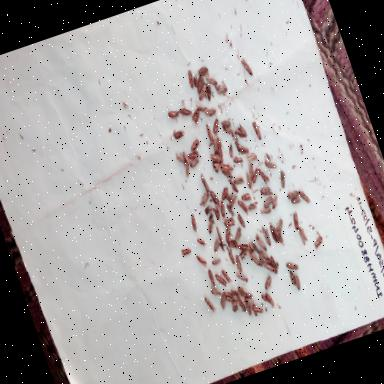pbw: (309, 228, 326, 250), (233, 290, 248, 314), (213, 135, 226, 161), (272, 224, 286, 248), (232, 122, 250, 140), (201, 80, 216, 101), (200, 172, 213, 196), (196, 190, 213, 208), (187, 106, 203, 125), (289, 210, 303, 231), (170, 125, 187, 142), (204, 122, 216, 146), (240, 58, 254, 78), (216, 198, 230, 218), (203, 294, 217, 314), (254, 232, 268, 252), (232, 224, 246, 244), (204, 214, 218, 234), (184, 70, 198, 90), (262, 225, 274, 248), (268, 193, 282, 212), (206, 266, 218, 288), (252, 120, 264, 142), (237, 196, 250, 216), (186, 138, 202, 154), (259, 184, 275, 200), (209, 150, 224, 167), (268, 223, 280, 244), (216, 292, 230, 310), (180, 160, 194, 178), (226, 190, 240, 208), (208, 118, 222, 136), (249, 166, 263, 184), (195, 252, 209, 270), (214, 271, 228, 289), (258, 165, 270, 186), (297, 188, 311, 206), (187, 212, 199, 233), (236, 281, 249, 300), (298, 226, 310, 246), (220, 159, 235, 175), (220, 266, 232, 286), (193, 77, 208, 93), (178, 104, 194, 119), (210, 134, 222, 154), (268, 254, 280, 274), (236, 246, 252, 261), (255, 248, 268, 266), (221, 225, 234, 243), (245, 162, 258, 180), (276, 170, 289, 188), (264, 290, 276, 309), (285, 258, 300, 273), (264, 157, 279, 172), (261, 274, 275, 290), (218, 186, 232, 202), (262, 259, 276, 275), (174, 150, 188, 166), (205, 73, 219, 89), (210, 236, 224, 252), (236, 269, 250, 285), (220, 166, 234, 182), (250, 250, 262, 268), (208, 190, 220, 208), (210, 204, 222, 222), (243, 172, 255, 190), (261, 193, 275, 208), (215, 82, 230, 96), (258, 247, 272, 262), (186, 149, 202, 162), (249, 239, 261, 256), (236, 212, 247, 230), (293, 274, 304, 292), (187, 156, 201, 170), (238, 240, 252, 254), (210, 286, 224, 300), (196, 88, 210, 102), (222, 216, 236, 230), (260, 291, 272, 307), (234, 253, 244, 272), (214, 226, 224, 245), (225, 202, 236, 219), (204, 105, 218, 118), (226, 237, 240, 250), (194, 100, 207, 114), (213, 159, 226, 173), (224, 292, 237, 306), (237, 142, 250, 156), (227, 248, 237, 266), (226, 142, 236, 160), (228, 177, 238, 194), (180, 244, 193, 257), (252, 302, 264, 316), (240, 192, 254, 204), (274, 218, 286, 232), (230, 300, 242, 314), (232, 172, 244, 186), (286, 188, 300, 200), (202, 202, 214, 216), (196, 65, 210, 77), (222, 122, 234, 136), (197, 234, 209, 248), (288, 270, 298, 286), (243, 300, 253, 316), (182, 150, 192, 166), (220, 116, 233, 128), (167, 108, 180, 120), (245, 150, 258, 162), (242, 289, 254, 301), (222, 287, 234, 299), (260, 205, 272, 217), (210, 255, 223, 266), (290, 195, 302, 206), (228, 285, 240, 296), (247, 201, 258, 211), (232, 156, 244, 164)
